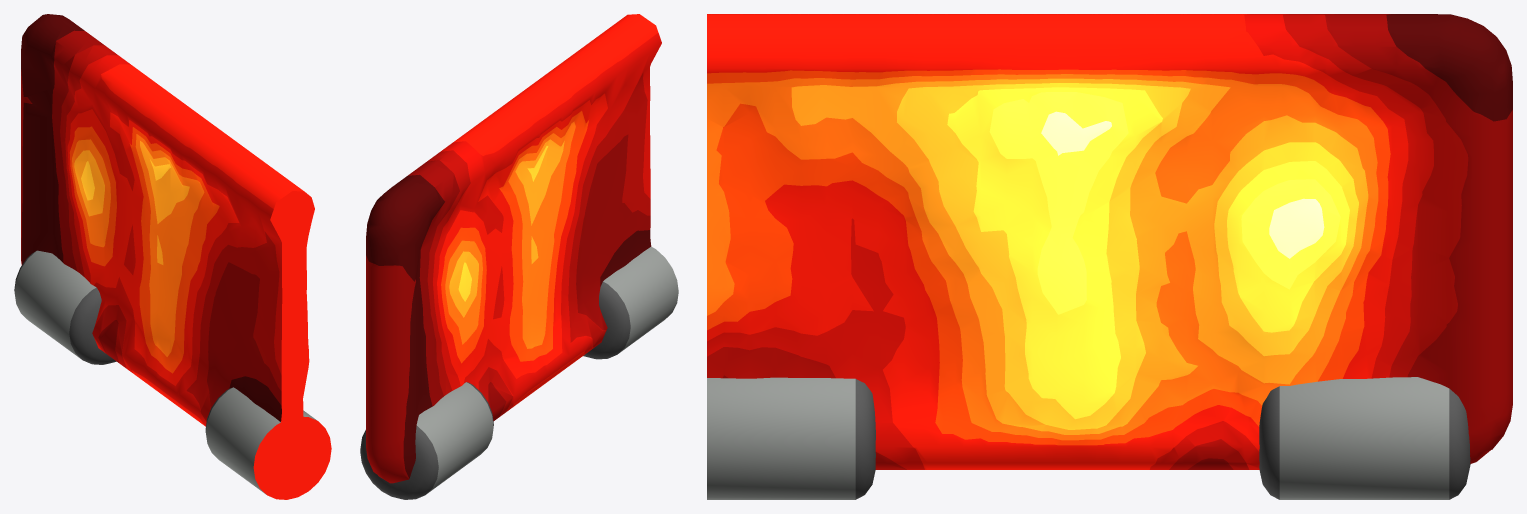
The model's file is fire_flap_l_top.glb.
3 renders of one model, left to right at view 1: azimuth 30°, elevation 25°; view 2: azimuth 150°, elevation 25°; view 3: azimuth 270°, elevation 25°, orthographic. The views are drawn at different scales.
Parts seen in each view (by area): view 1: flap.001, knuckle1.001, knuckle0.001; view 2: flap.001, knuckle0.001, knuckle1.001; view 3: flap.001, knuckle0.001, knuckle1.001.
Boxes of the visible parts, x1=… form: flap.001: x1=21, y1=14, x2=314, y2=481; knuckle1.001: x1=205, y1=387, x2=331, y2=499; knuckle0.001: x1=14, y1=250, x2=116, y2=364; flap.001: x1=366, y1=14, x2=661, y2=483; knuckle0.001: x1=360, y1=382, x2=493, y2=499; knuckle1.001: x1=583, y1=246, x2=678, y2=359; flap.001: x1=707, y1=14, x2=1512, y2=469; knuckle0.001: x1=1259, y1=377, x2=1470, y2=499; knuckle1.001: x1=707, y1=377, x2=875, y2=499.
Bounding box in the file's own units: 3.3 × 12.43 × 19.
